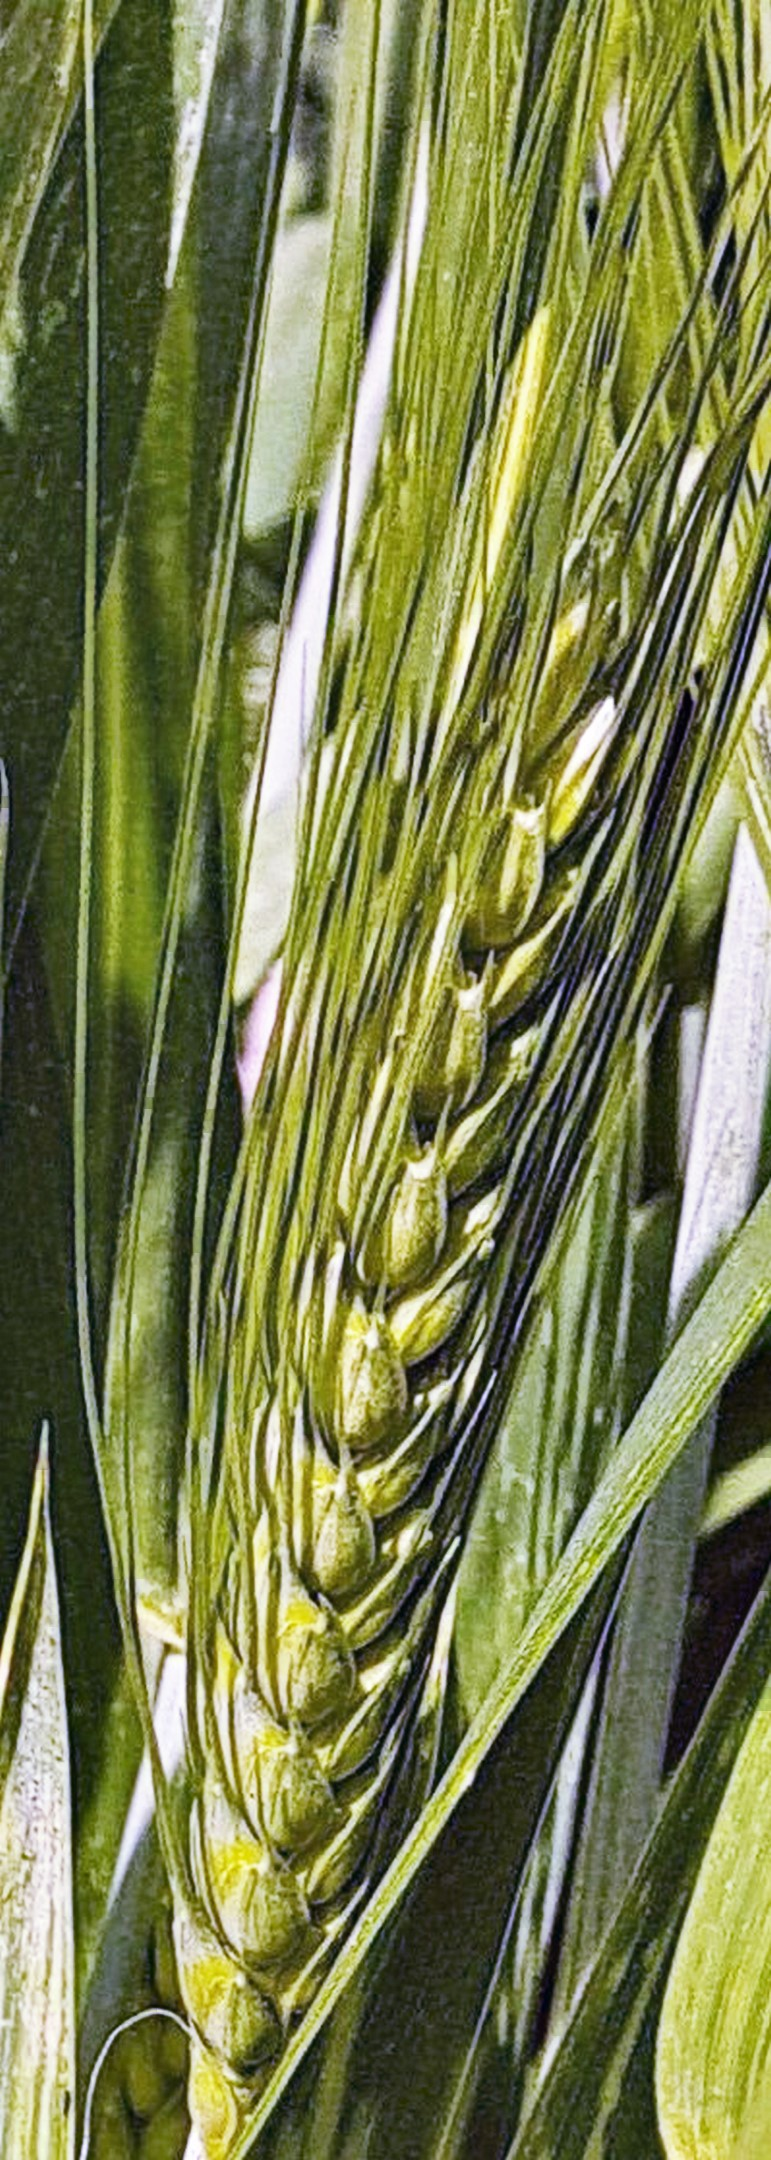Healthy Wheat: (158, 530, 726, 2042)
